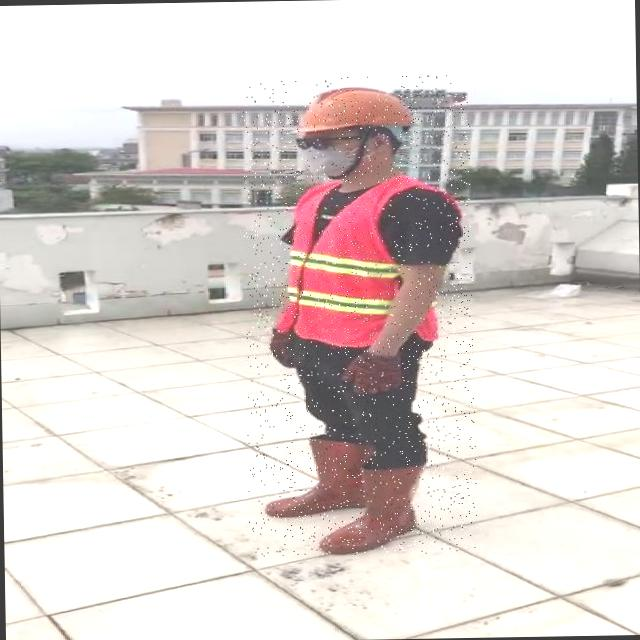boots: (314, 462, 424, 554), (267, 437, 378, 517)
gloves: (346, 310, 425, 420)
helmet: (295, 80, 422, 141)
vest: (278, 175, 442, 344)
